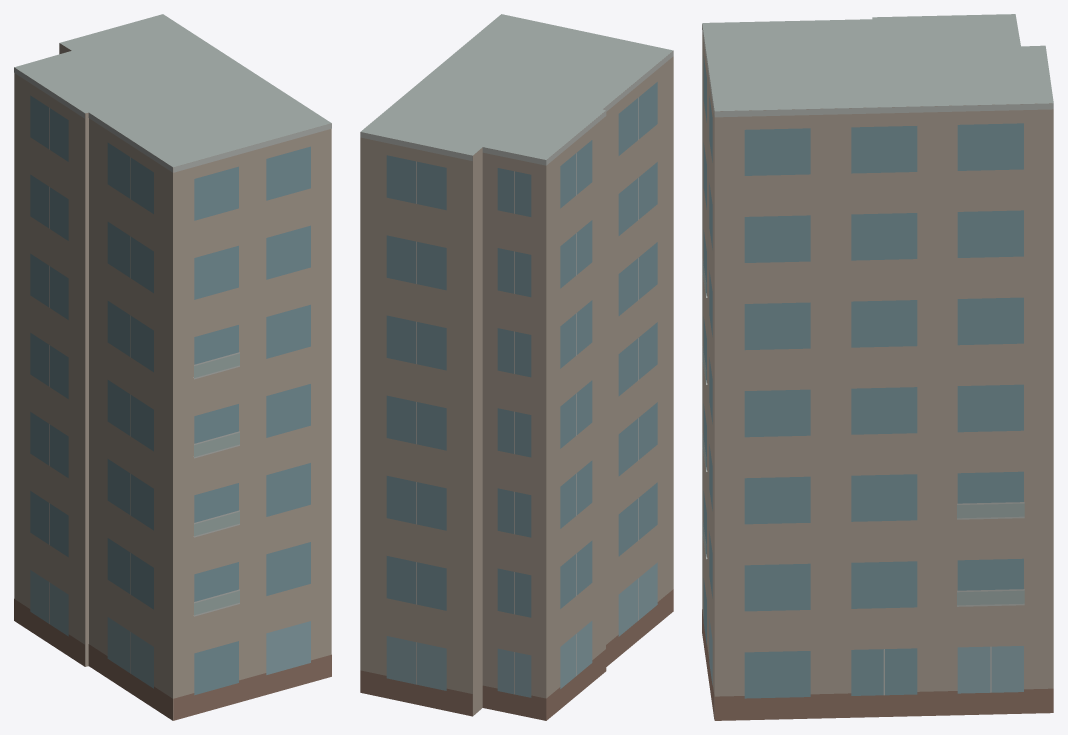
Rendered from survey-upis-32737971.glb.
3 views of the same model, side by side, from view 1: azimuth 30°, elevation 25°; view 2: azimuth 150°, elevation 25°; view 3: azimuth 270°, elevation 25° (orthographic). The views are drawn at different scales.
Parts seen in each view (by area): view 1: survey-upis-32737971.tmp; view 2: survey-upis-32737971.tmp; view 3: survey-upis-32737971.tmp.
Boxes of the visible parts, left/top/right/bottom form: survey-upis-32737971.tmp: left=14, top=14, right=331, bottom=720; survey-upis-32737971.tmp: left=360, top=14, right=673, bottom=720; survey-upis-32737971.tmp: left=702, top=14, right=1053, bottom=720.
Size of the model in its own units: 8.36 by 24.4 by 12.77.
